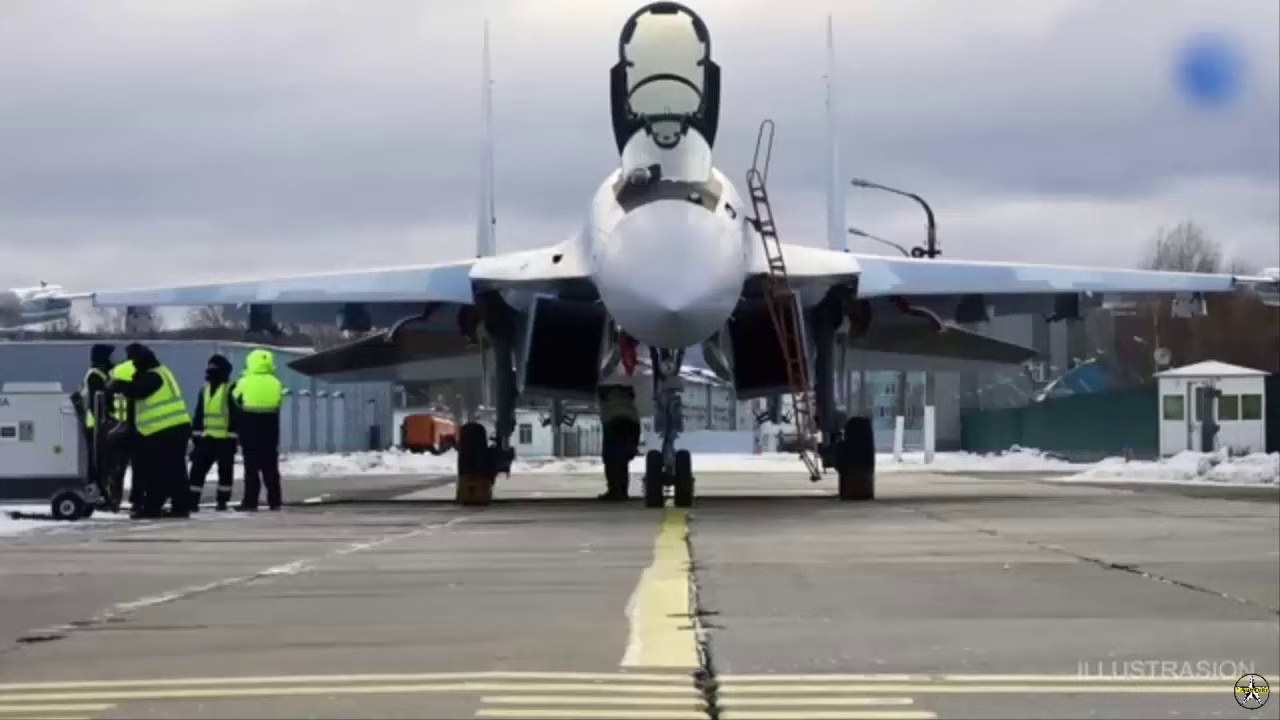Su35: (0, 0, 1276, 515)
